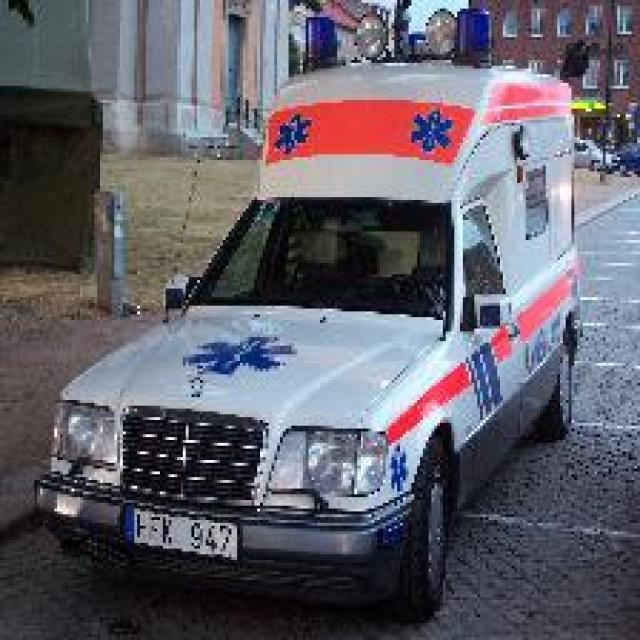emergency: (32, 58, 586, 622)
